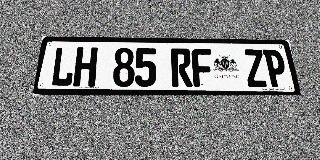5: (135, 48, 156, 87)
8: (112, 48, 135, 87)
F: (191, 49, 214, 87)
H: (73, 47, 98, 87)
L: (50, 47, 76, 87)
P: (263, 49, 289, 87)
R: (171, 48, 193, 87)
Z: (243, 49, 268, 87)
